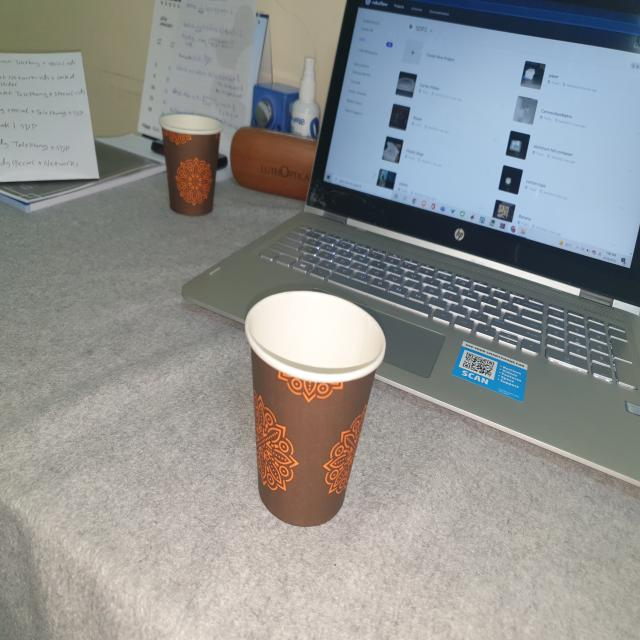cups: (237, 289, 395, 535), (159, 107, 229, 218)
